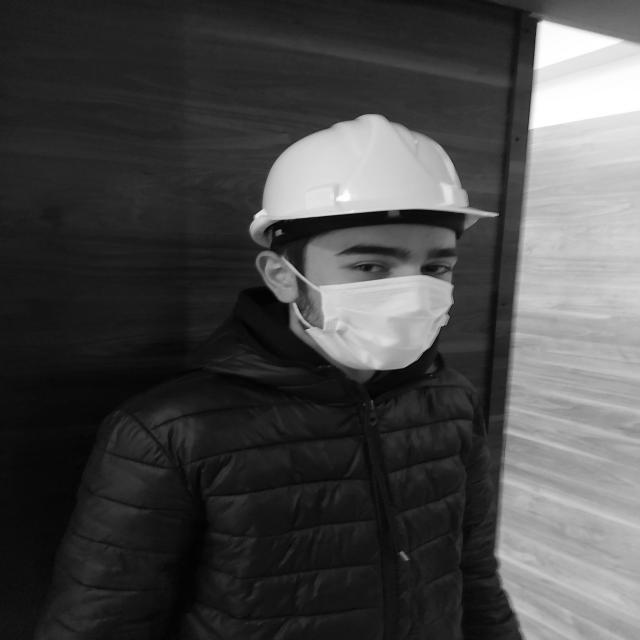safety_helmet: (250, 115, 494, 247)
